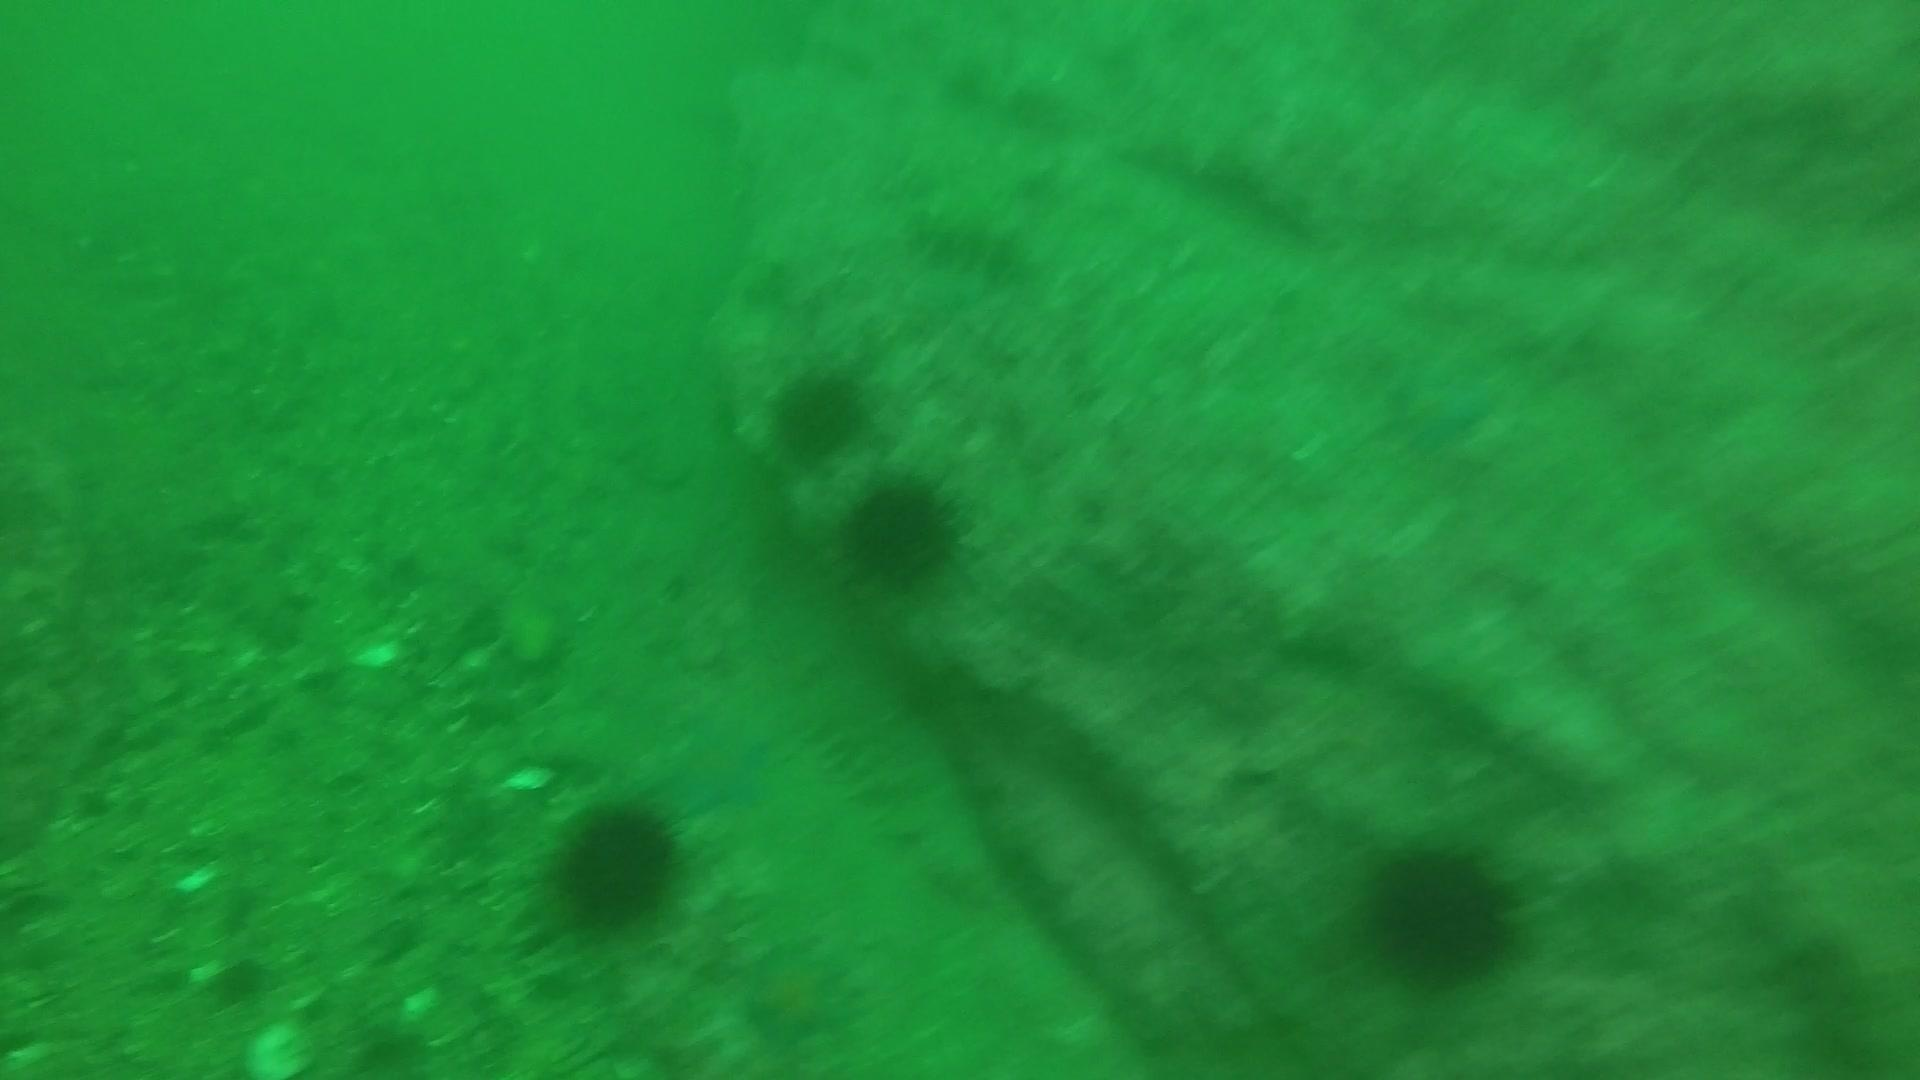echinus: (1357, 835, 1528, 990), (543, 793, 688, 935), (833, 467, 969, 591), (764, 360, 876, 465)
holothurian: (901, 200, 1035, 285)
starfish: (645, 712, 781, 824), (735, 934, 858, 1052), (1385, 353, 1501, 458)
